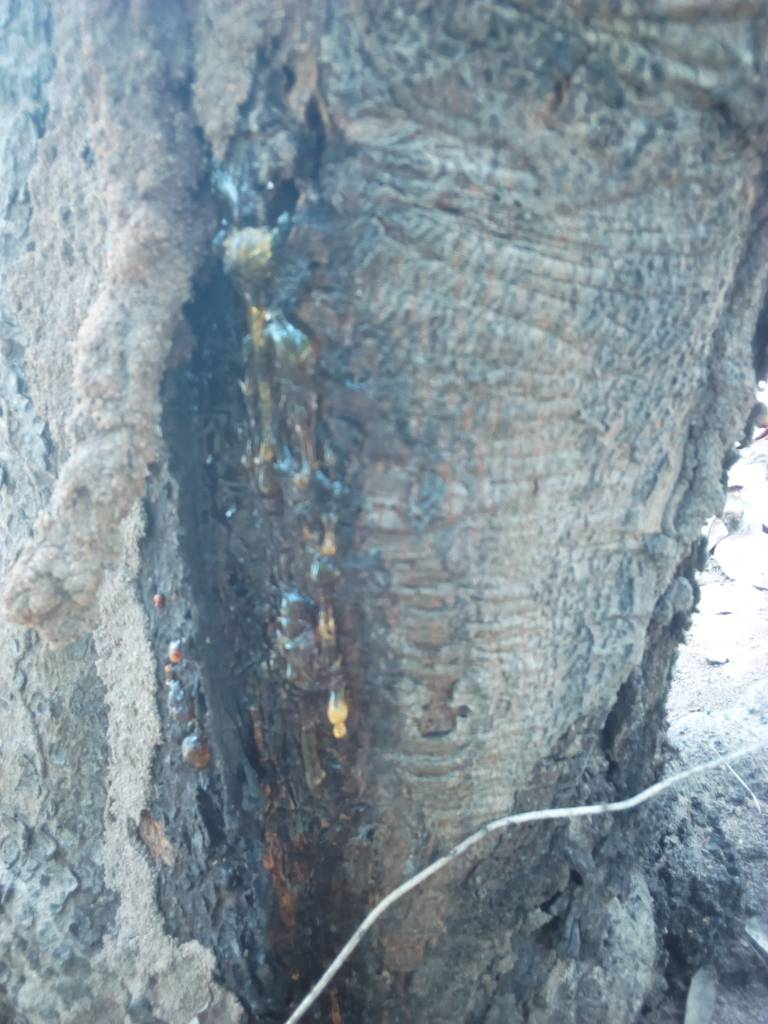Gommose: (161, 249, 377, 1010)
